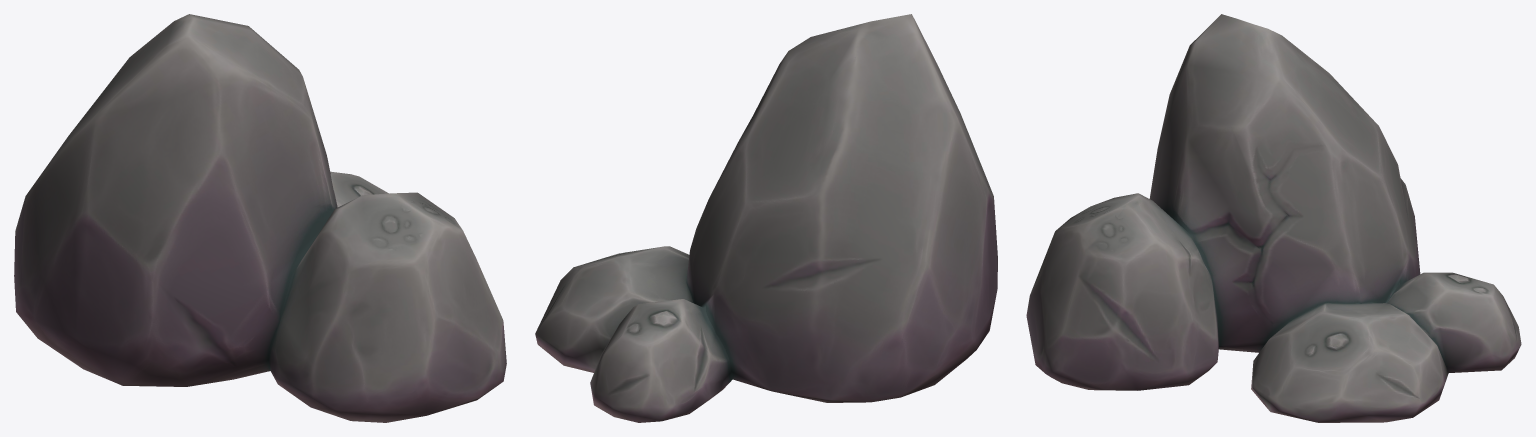
Rendered from Rocks.fbx.
The picture shows the model from 3 angles, left to right: view 1: azimuth 30°, elevation 25°; view 2: azimuth 150°, elevation 25°; view 3: azimuth 270°, elevation 25°; orthographic projection. The views are drawn at different scales.
Visible parts, largest first — view 1: Rocks; view 2: Rocks; view 3: Rocks.
Boxes of the visible parts, bbox=[...] form: Rocks: bbox=[14, 14, 506, 422]; Rocks: bbox=[535, 14, 997, 422]; Rocks: bbox=[1026, 14, 1521, 422].
Size of the model in its own units: 1.64 by 1.3 by 2.
1 material, 1 textured.
